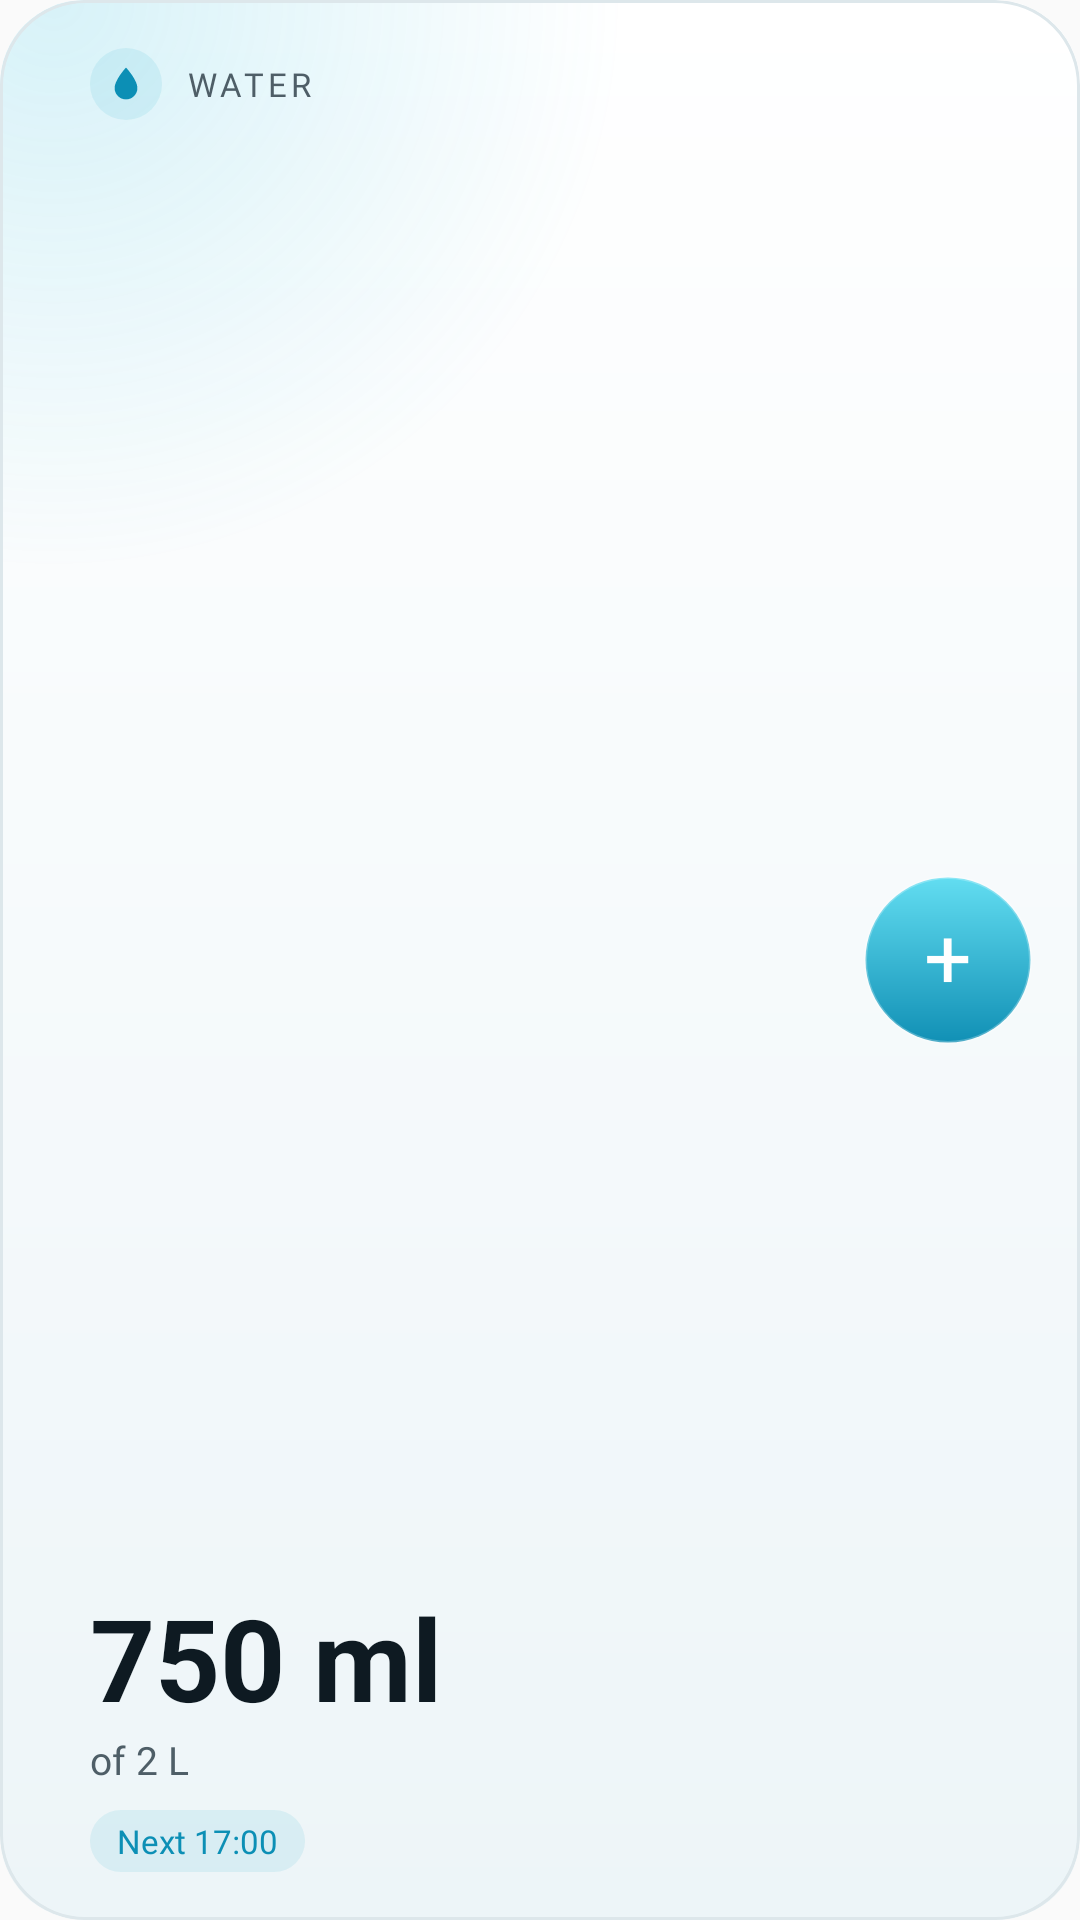

Where to tap for icons on this 1080 x 1920 app screen, as (x=x, y=y):
widget drop: (x=126, y=83)
